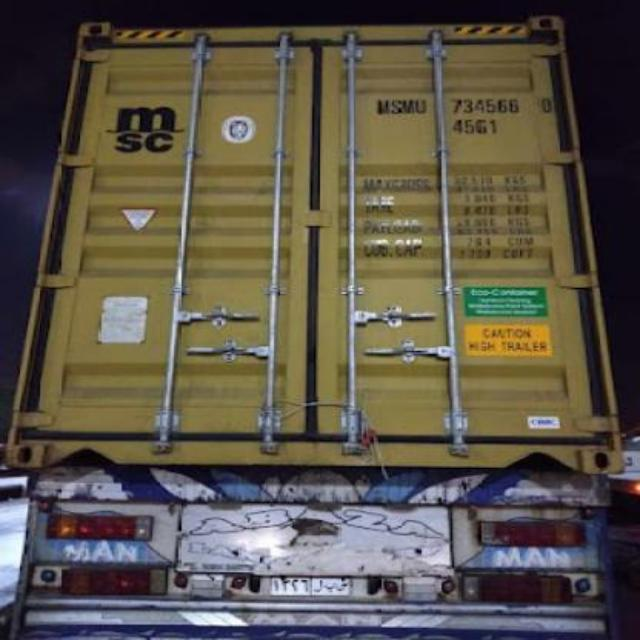0: (540, 94, 552, 116)
3: (462, 94, 474, 116)
4: (474, 94, 484, 116)
5: (484, 94, 496, 118)
6: (508, 90, 522, 120), (494, 94, 508, 115)
7: (446, 94, 462, 115)
M: (374, 93, 390, 117), (398, 93, 414, 117)
S: (388, 93, 400, 117)
U: (414, 93, 426, 117)
